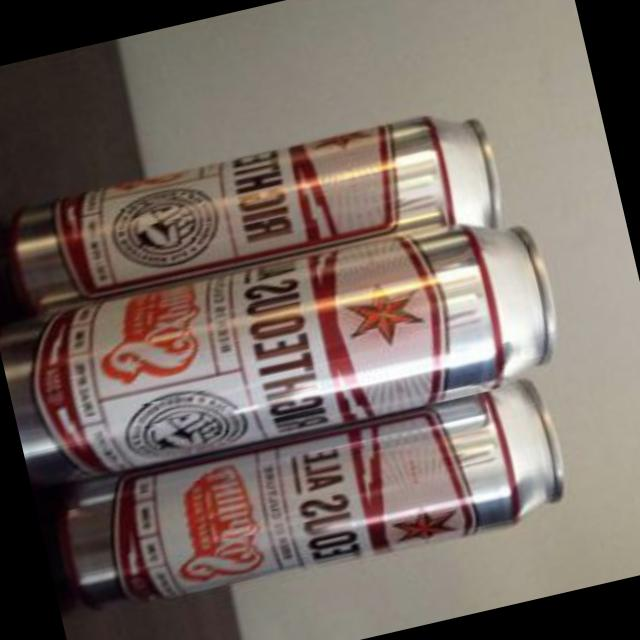metal: (0, 229, 557, 485), (60, 380, 564, 608), (6, 118, 501, 314)
